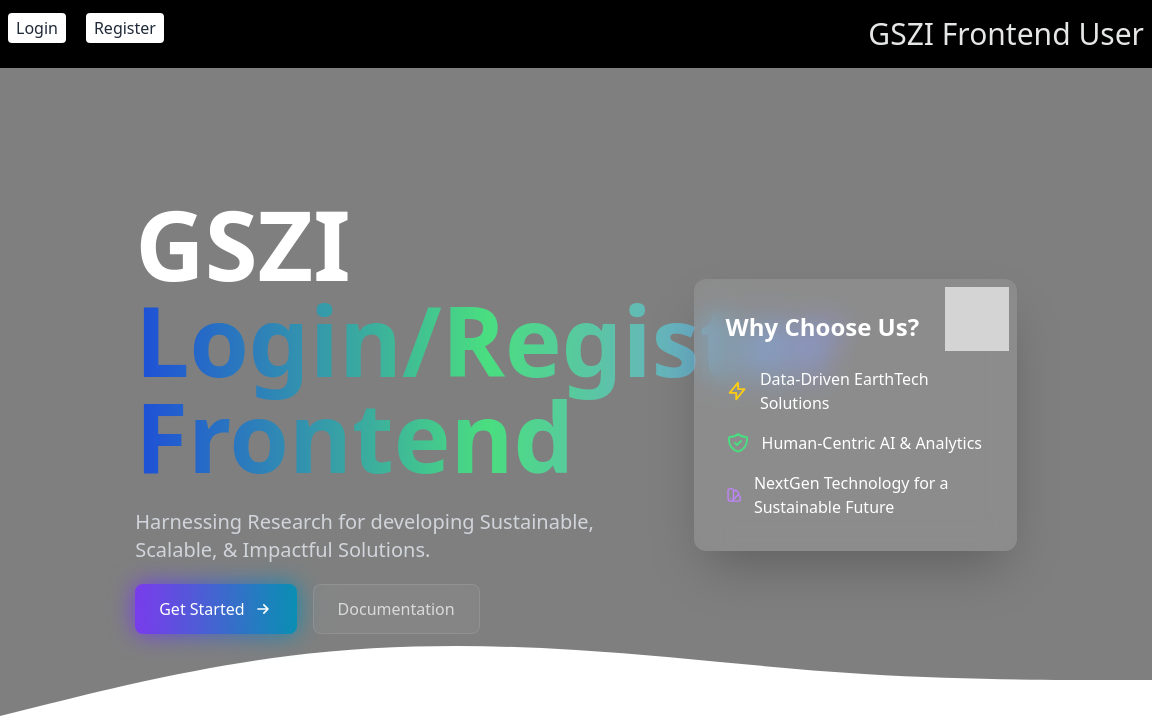
Scenario: Fooldal es menu › Regisztracio menupont mukodik-e?
Click the link "Register": (125, 28) x1=86 y1=13 x2=164 y2=43
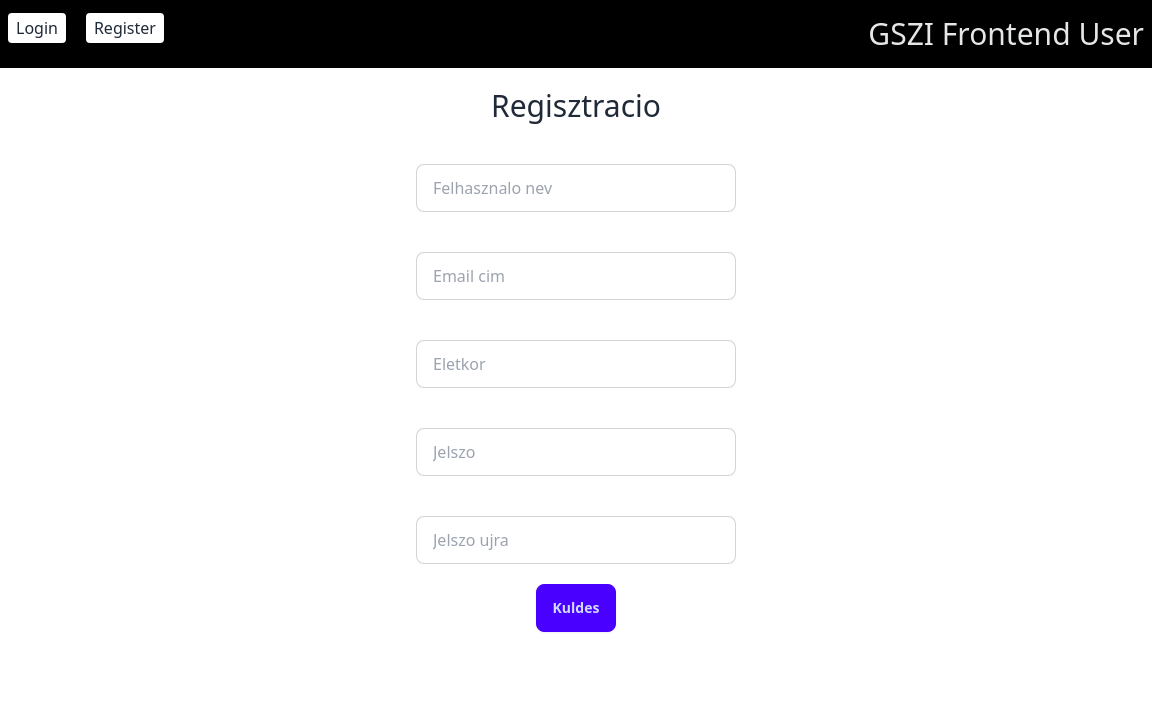
Check: the heading "Regisztracio" is shown, box x1=491 y1=85 x2=661 y2=126
